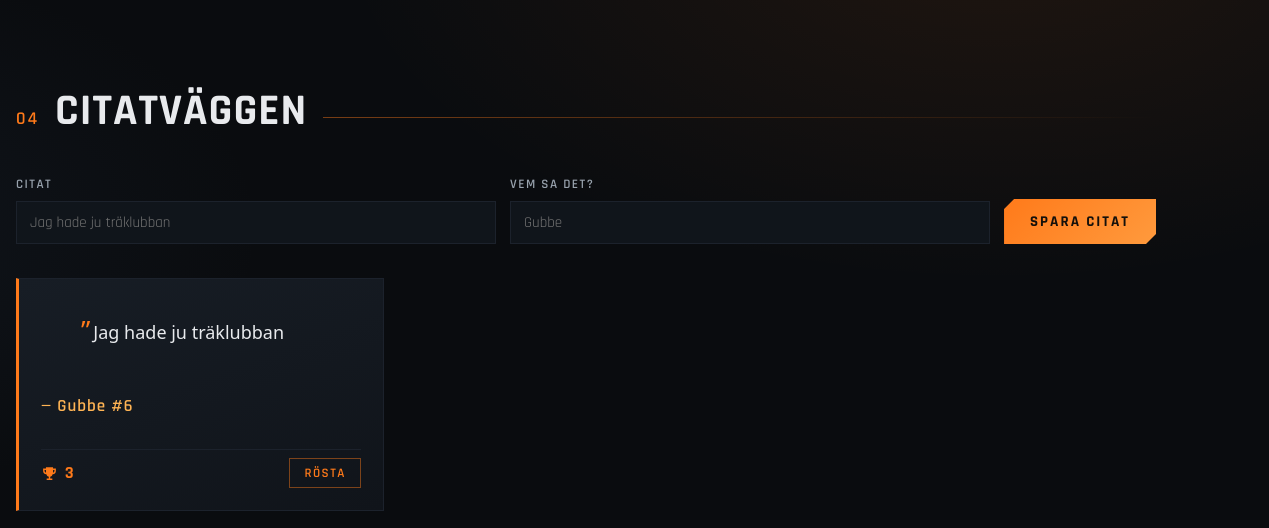
Scenario: Quotes › updates the count when a member votes
This screenshot has width=1269, height=528.
Click the button "Rösta" at point(325, 473), box [289,458,361,488]
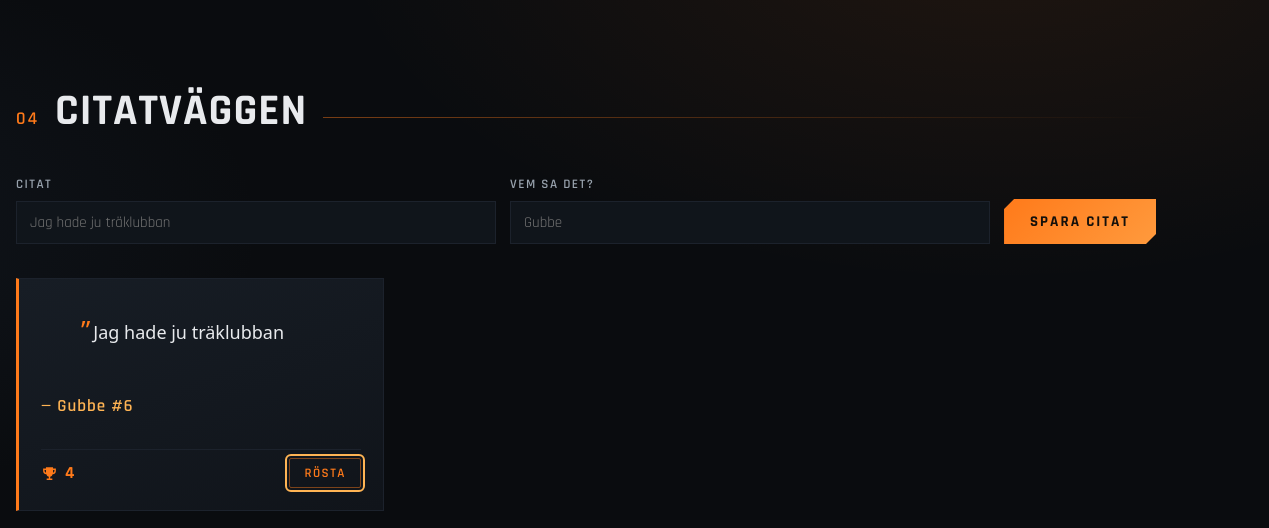
Expected: the text "4" is shown, [41,460,74,487]
